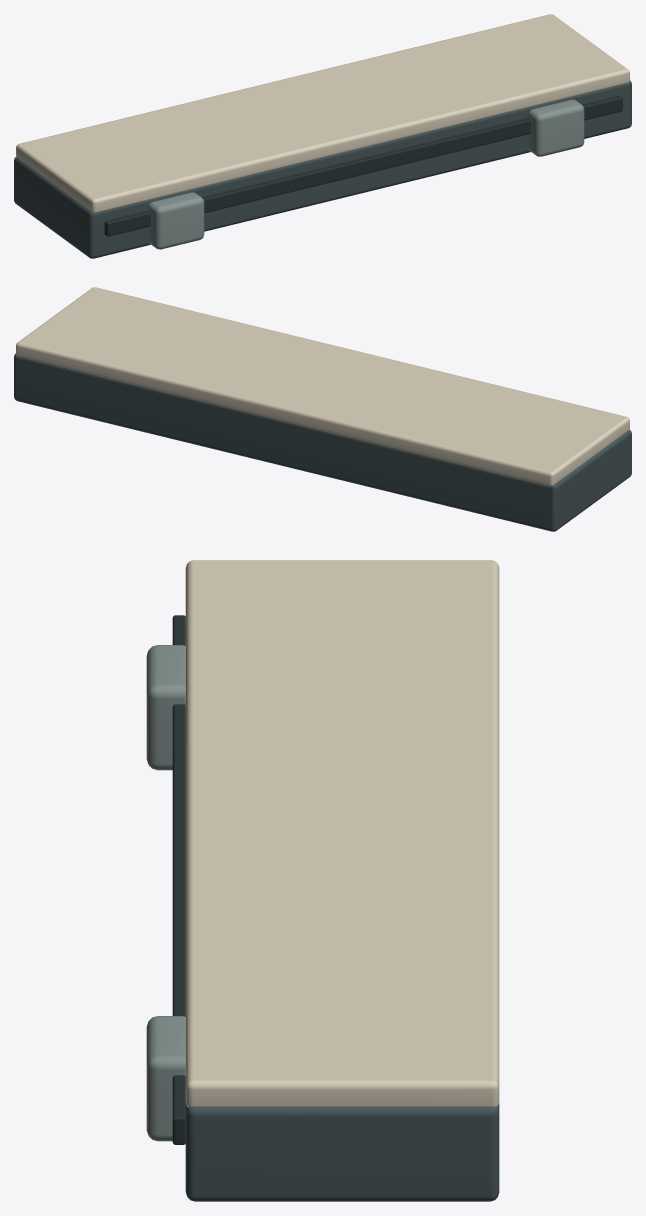
Rendered from foundation-edge-2m.glb.
3 views of the same model, one above another, from view 1: azimuth 30°, elevation 25°; view 2: azimuth 150°, elevation 25°; view 3: azimuth 270°, elevation 25° (orthographic). The views are drawn at different scales.
Visible parts, largest first — view 1: foundation-edge-2m / 01 • warm porcelain paint, foundation-edge-2m / 06 • dark anodized frame, foundation-edge-2m / 04 • graphite gasket, foundation-edge-2m / 05 • brushed titanium; view 2: foundation-edge-2m / 01 • warm porcelain paint, foundation-edge-2m / 06 • dark anodized frame; view 3: foundation-edge-2m / 01 • warm porcelain paint, foundation-edge-2m / 06 • dark anodized frame, foundation-edge-2m / 05 • brushed titanium, foundation-edge-2m / 04 • graphite gasket.
Part boxes in pixels (x1,y1,x2,y2): foundation-edge-2m / 01 • warm porcelain paint: (16,14,629,213); foundation-edge-2m / 06 • dark anodized frame: (14,80,631,258); foundation-edge-2m / 04 • graphite gasket: (104,95,622,236); foundation-edge-2m / 05 • brushed titanium: (148,99,584,249); foundation-edge-2m / 01 • warm porcelain paint: (16,287,629,486); foundation-edge-2m / 06 • dark anodized frame: (14,353,631,531); foundation-edge-2m / 01 • warm porcelain paint: (185,560,499,1107); foundation-edge-2m / 06 • dark anodized frame: (185,1103,499,1201); foundation-edge-2m / 05 • brushed titanium: (146,645,185,1141); foundation-edge-2m / 04 • graphite gasket: (172,615,185,1144).
Bounding box in the file's own units: 2 × 0.21 × 0.5625.
